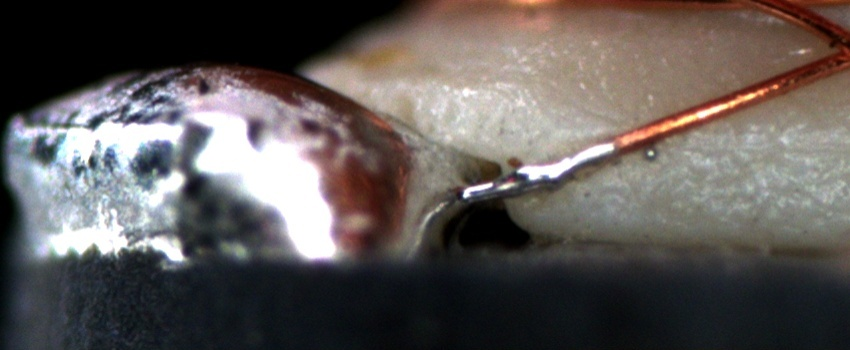CL: (805, 16, 850, 78)
DL: (677, 113, 850, 177)
TS: (461, 141, 617, 200)
TTCW: (438, 115, 678, 202)
